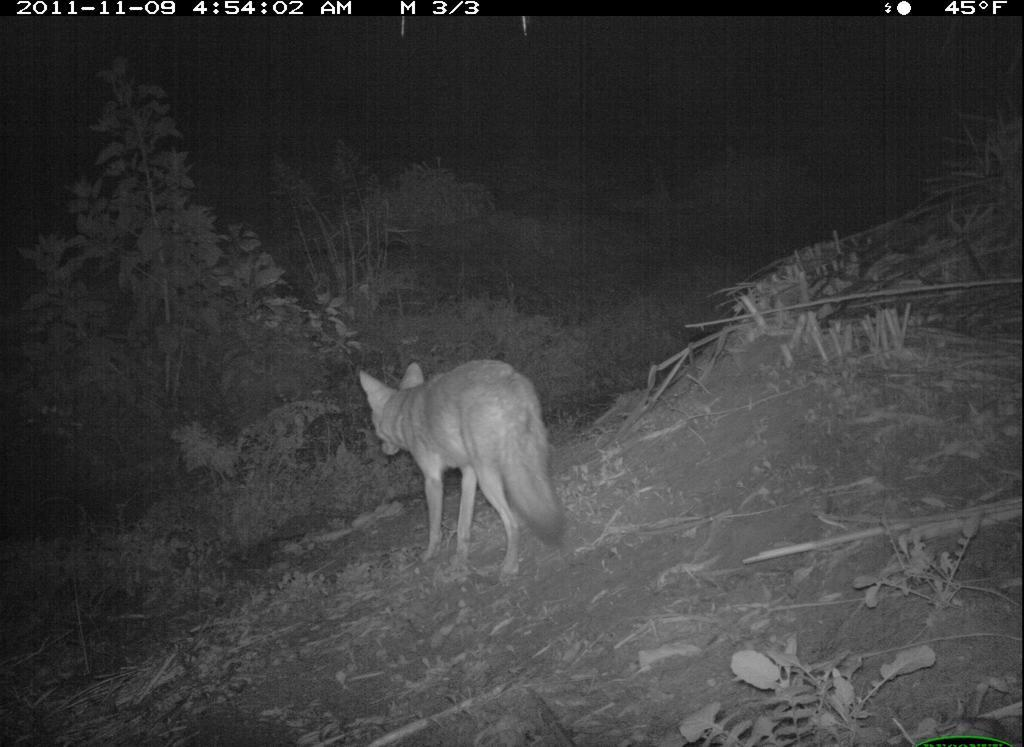coyote: (353, 341, 588, 583)
